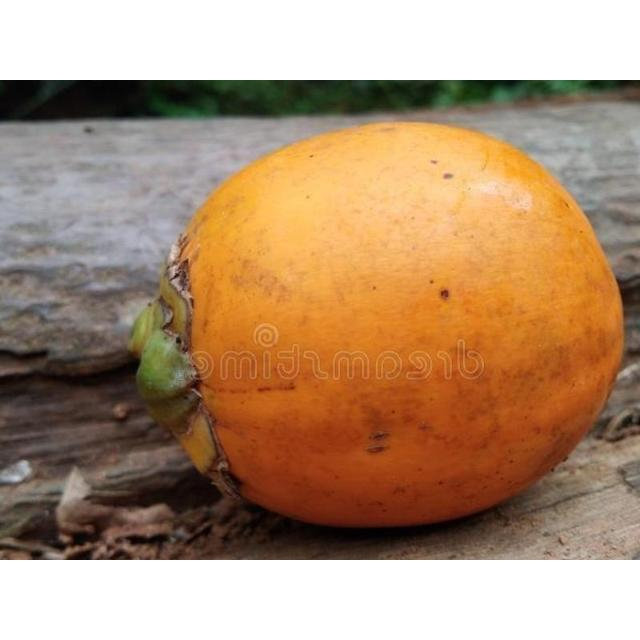good: (128, 122, 626, 532)
